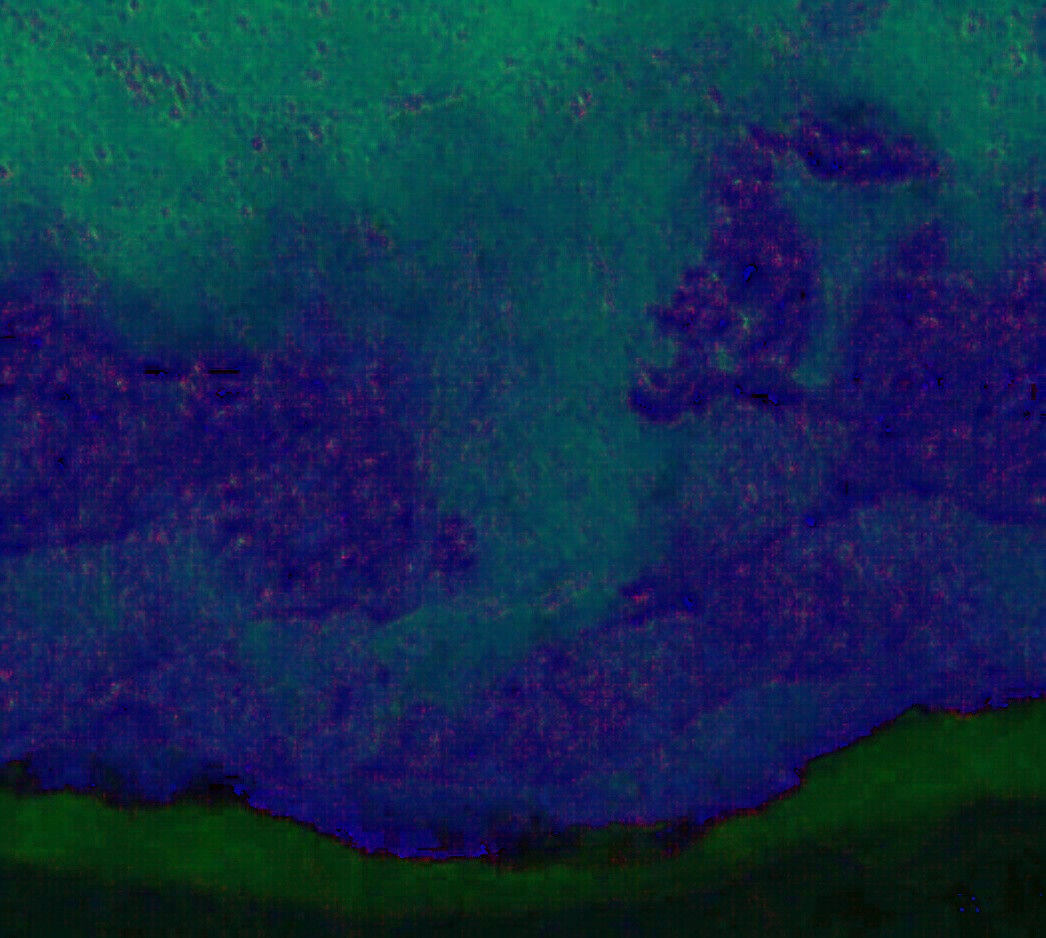rip_current: (371, 136, 734, 632)
